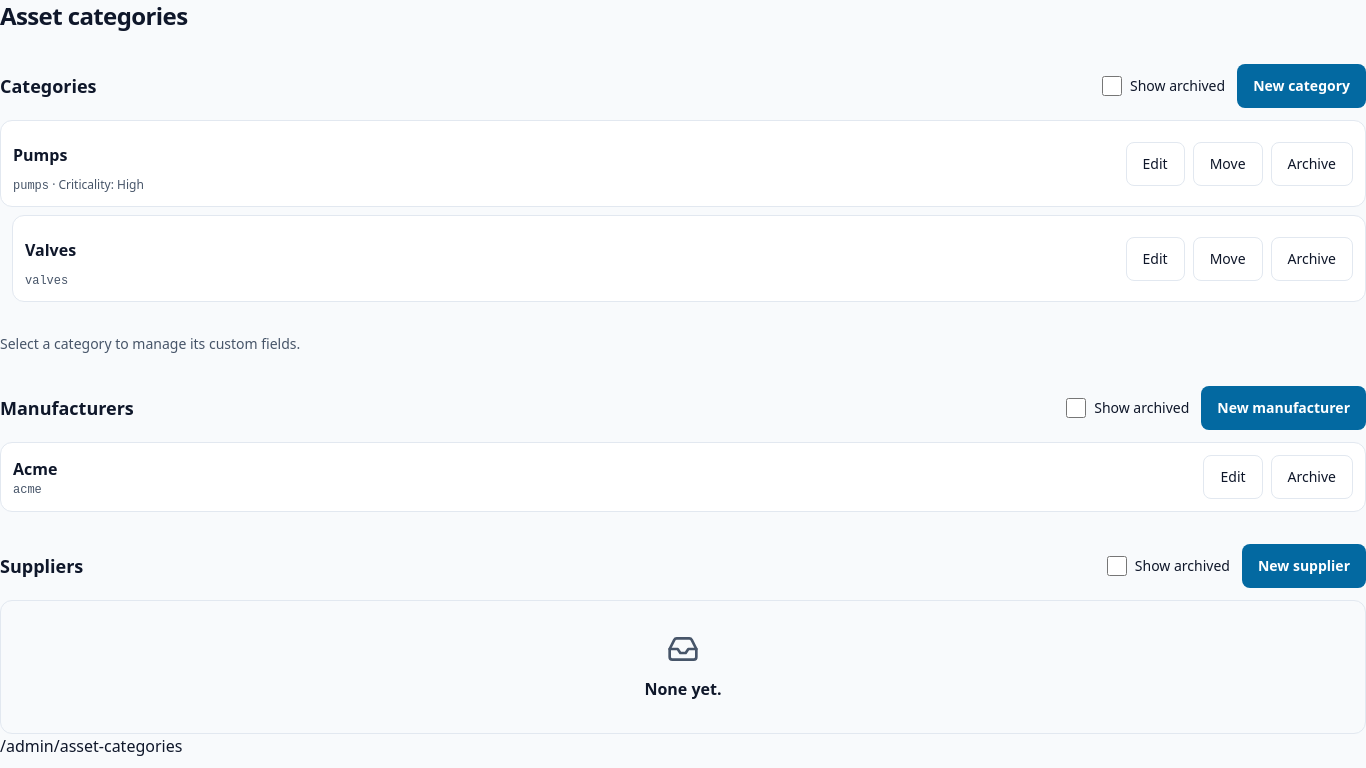
Test: AssetCategoriesPage categories › shows the API's blocker when a category cannot be archived
Click the 2nd button "Archive".
click(1312, 258)  # box [1270,236,1353,280]
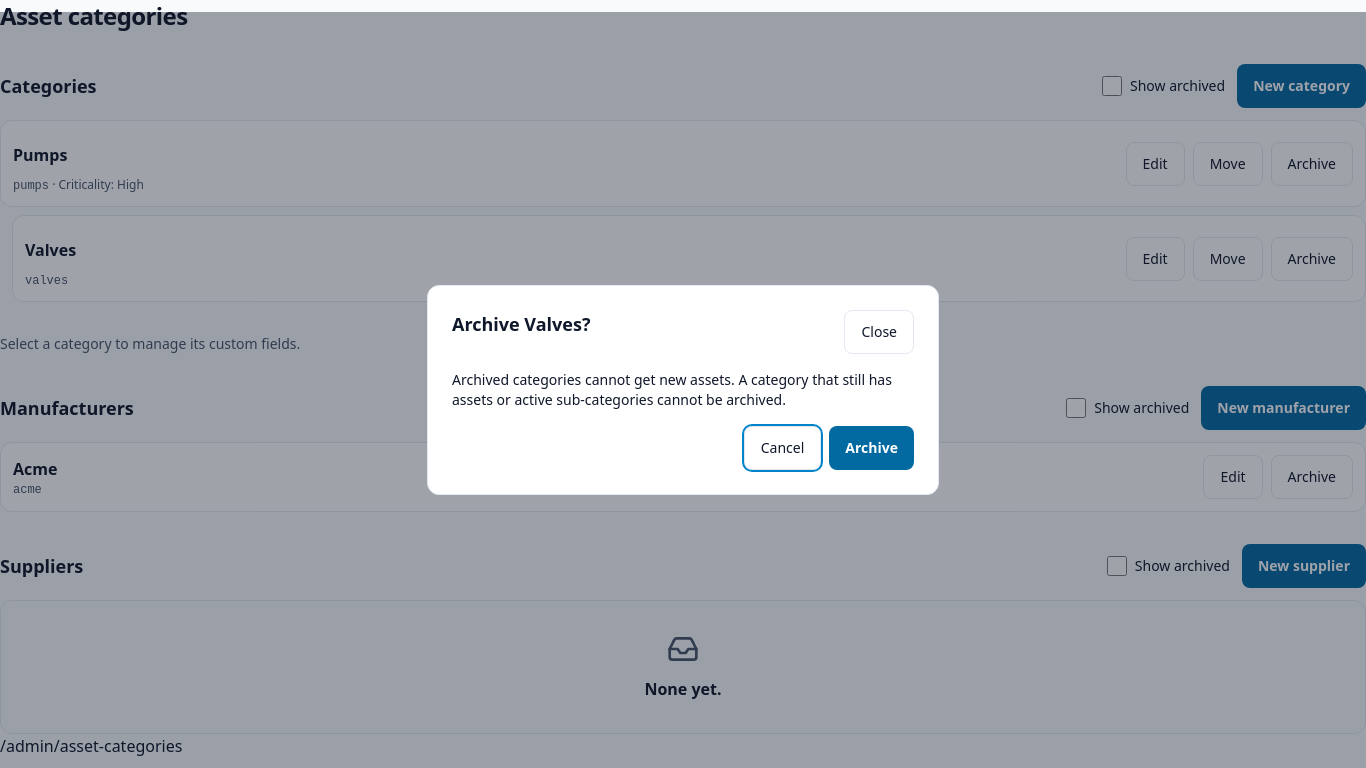
Click the button "Archive".
click(872, 448)  # box [829,426,914,470]
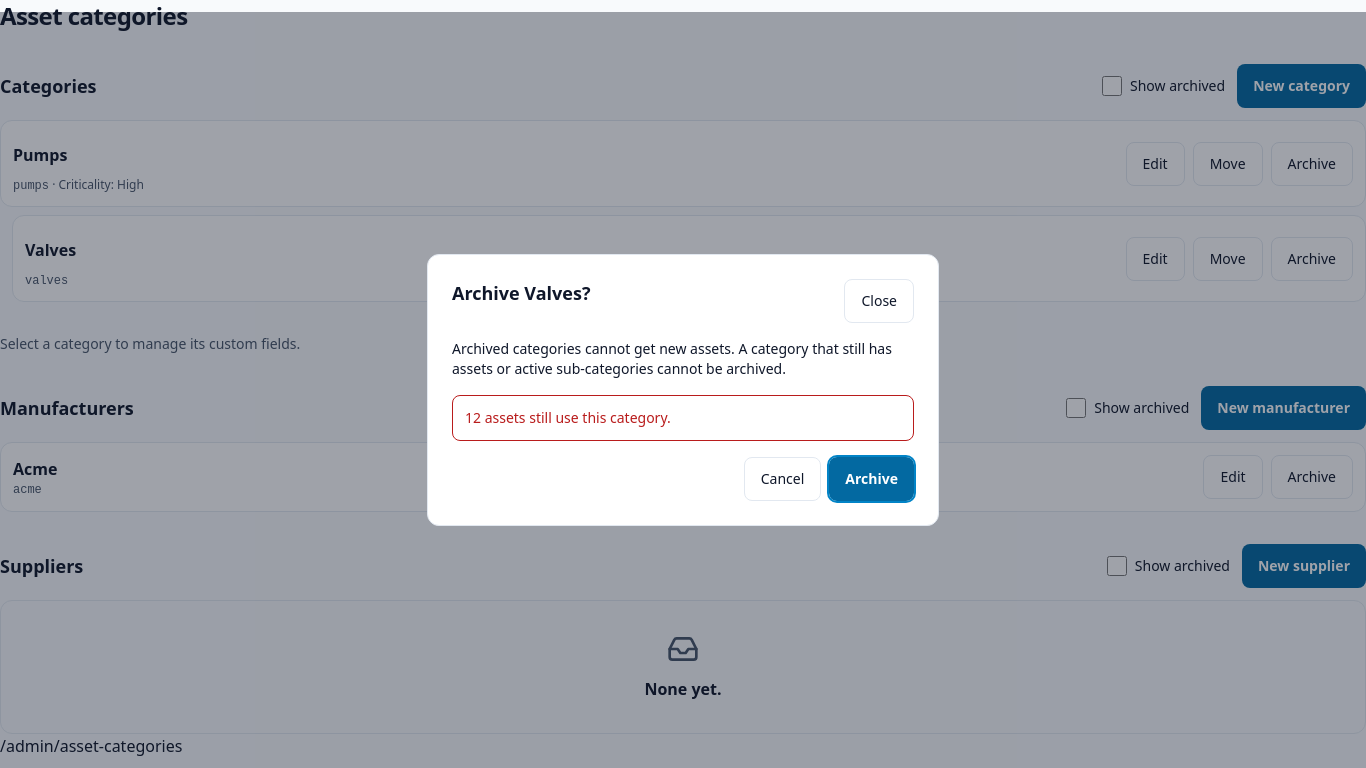
Result: the text "12 assets still use this category." is shown at [452,395,914,441]
